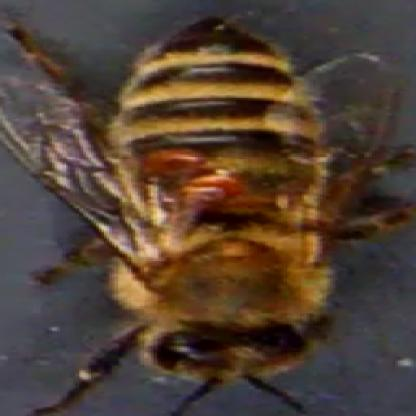bee: (119, 12, 350, 396)
vaoora: (186, 174, 241, 200), (146, 150, 196, 172)
